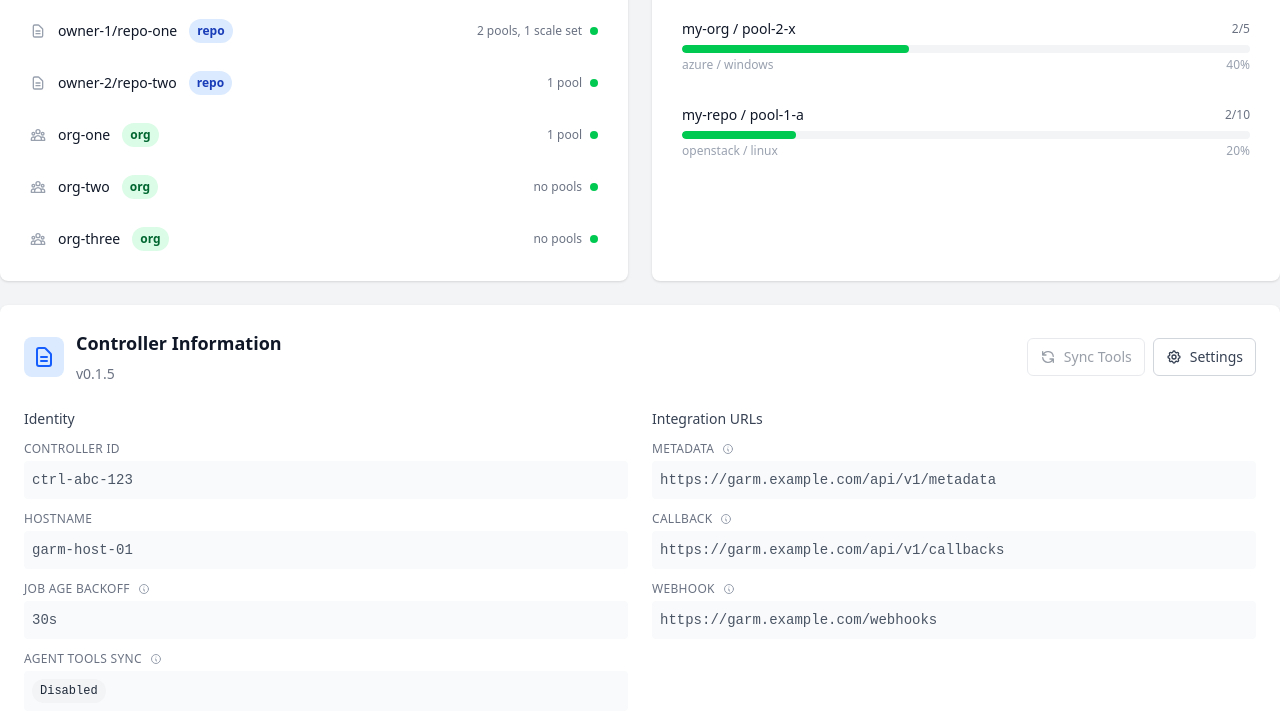
Test: Dashboard Page Integration Tests › Controller Info Card › should offer the cached releases in the settings version picker
The width and height of the screenshot is (1280, 716).
(page scrolled)
What coordinates should you click on to do the following:
click the button "Settings"
I would click on:
 (1204, 357)
Its box is 1153,338 -> 1256,376.
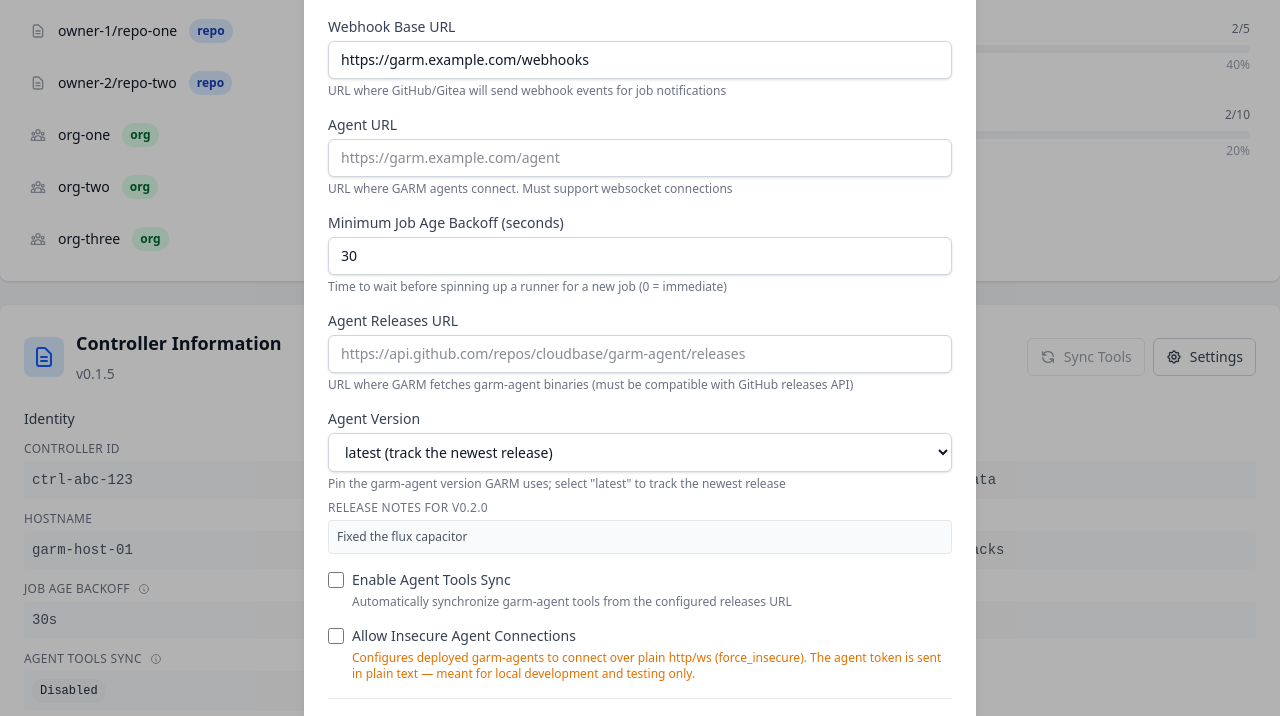
expect the dropdown with id "garmAgentVersion" is shown: met, box 328,433 -> 952,472
